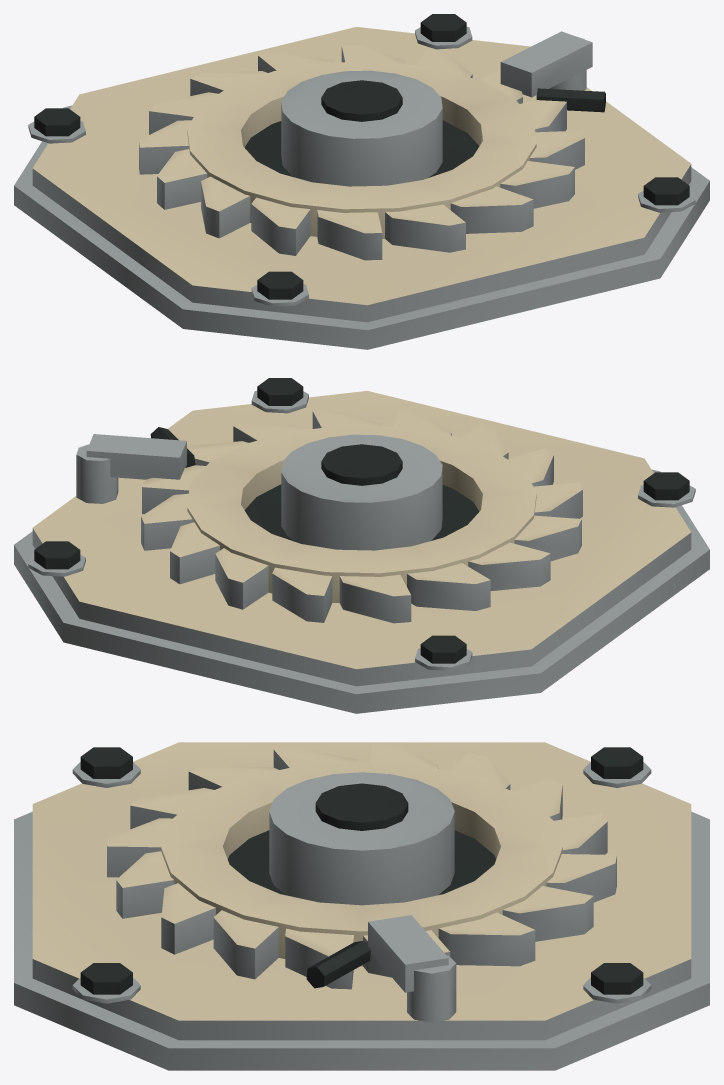
Rendered from panel_collar.glb.
3 views of the same model, one above another, from view 1: azimuth 30°, elevation 25°; view 2: azimuth 150°, elevation 25°; view 3: azimuth 270°, elevation 25° (orthographic). The views are drawn at different scales.
Parts seen in each view (by area): view 1: panel_collar; view 2: panel_collar; view 3: panel_collar.
Part boxes in pixels (x1,y1,x2,y2): panel_collar: (14,14,709,349); panel_collar: (14,378,709,713); panel_collar: (14,742,709,1070).
Size of the model in its own units: 0.45 by 0.086 by 0.45.
